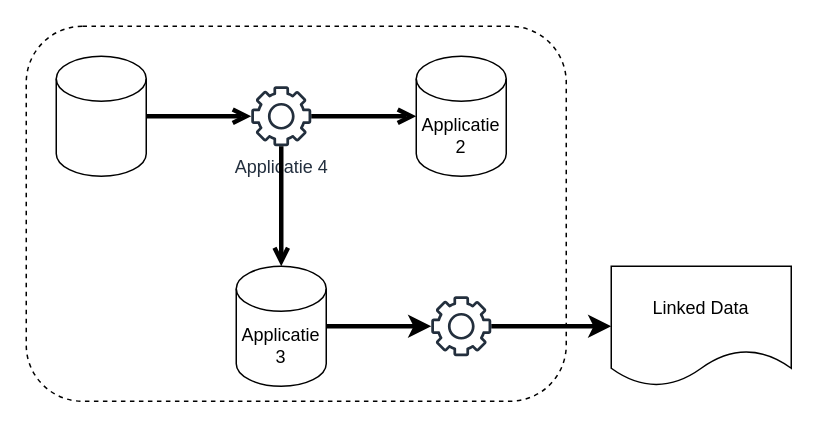
The diagram is 818 pixels wide and 428 high, and some of its shapes have lost their labels. Here are the shapes that lost their labels. From the top down, the centre of each, then its label:
At [100,115]: "Applicatie 1".
At [460,326]: "Applicatie 5".
